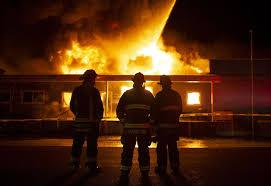fire: (141, 42, 175, 77)
